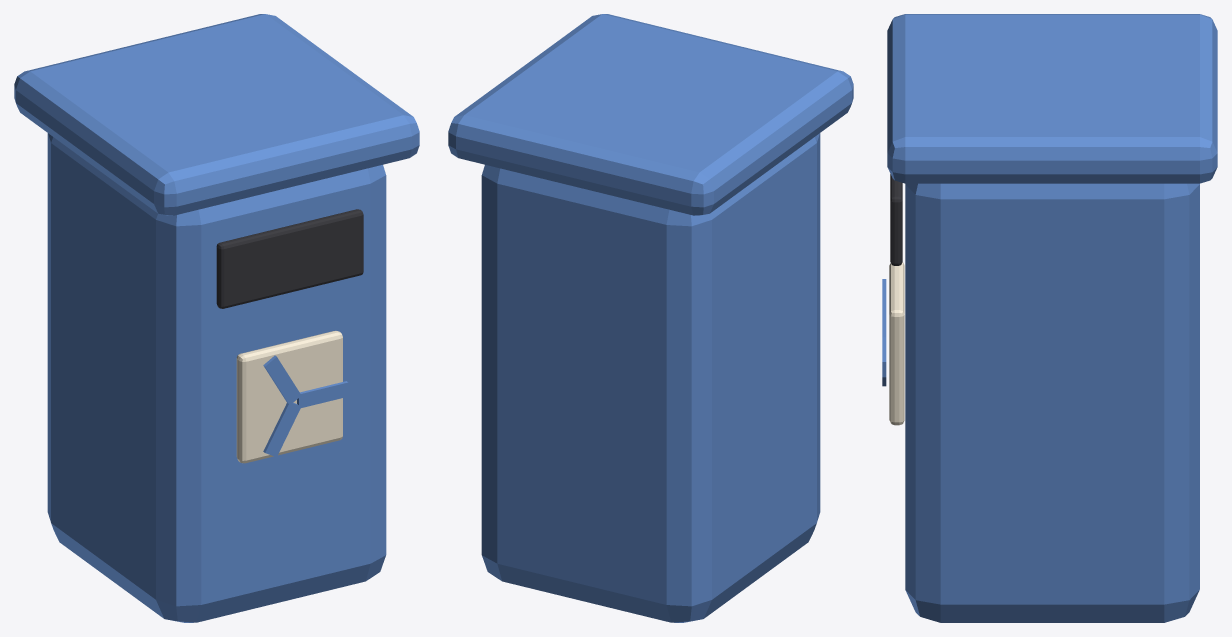
Rendered from recycling_bin.glb.
3 views of the same model, side by side, from view 1: azimuth 30°, elevation 25°; view 2: azimuth 150°, elevation 25°; view 3: azimuth 270°, elevation 25° (orthographic). The views are drawn at different scales.
Visible parts, largest first — view 1: recycling_bin__Body, recycling_bin__Lid, recycling_bin__Opening, recycling_bin__Badge, recycling_bin__Cycle mark.002, recycling_bin__Cycle mark, recycling_bin__Cycle mark.001; view 2: recycling_bin__Body, recycling_bin__Lid; view 3: recycling_bin__Body, recycling_bin__Lid, recycling_bin__Badge, recycling_bin__Opening.
Boxes of the visible parts, <box> form: recycling_bin__Body: <box>47,133,386,622</box>; recycling_bin__Lid: <box>14,14,419,215</box>; recycling_bin__Opening: <box>216,209,363,308</box>; recycling_bin__Badge: <box>236,330,342,463</box>; recycling_bin__Cycle mark.002: <box>263,402,301,457</box>; recycling_bin__Cycle mark: <box>297,381,348,407</box>; recycling_bin__Cycle mark.001: <box>263,355,301,404</box>; recycling_bin__Body: <box>481,133,820,622</box>; recycling_bin__Lid: <box>448,14,853,215</box>; recycling_bin__Body: <box>905,183,1199,622</box>; recycling_bin__Lid: <box>887,14,1217,183</box>; recycling_bin__Badge: <box>889,262,904,425</box>; recycling_bin__Opening: <box>890,174,902,265</box>.
Size of the model in its own units: 0.128 by 0.218 by 0.132.
